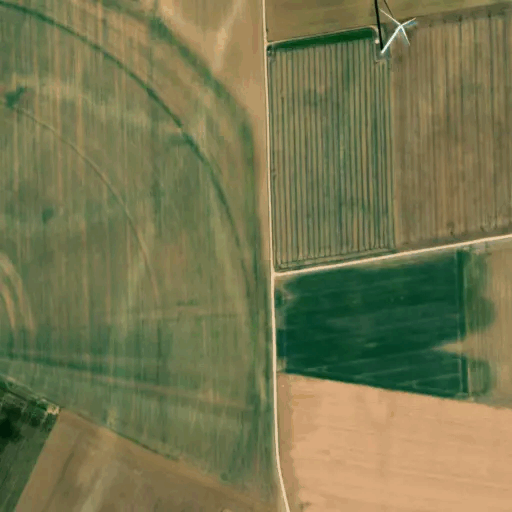wt: (367, 1, 417, 58)
